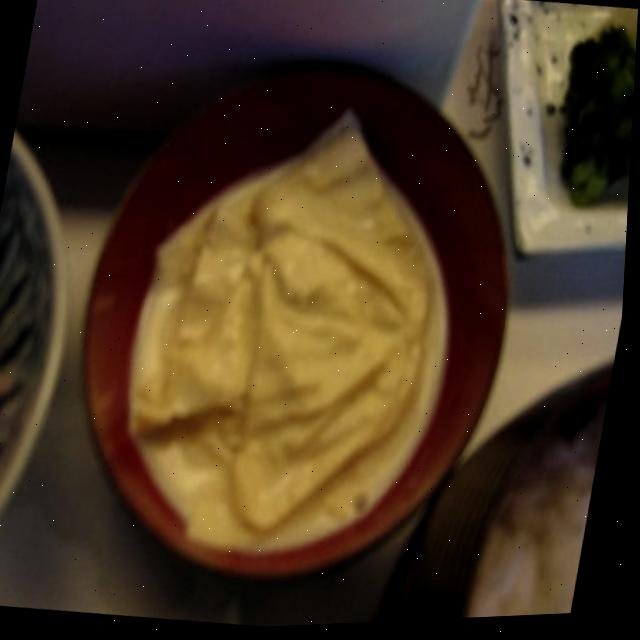豆腐料理: (70, 76, 511, 593)
